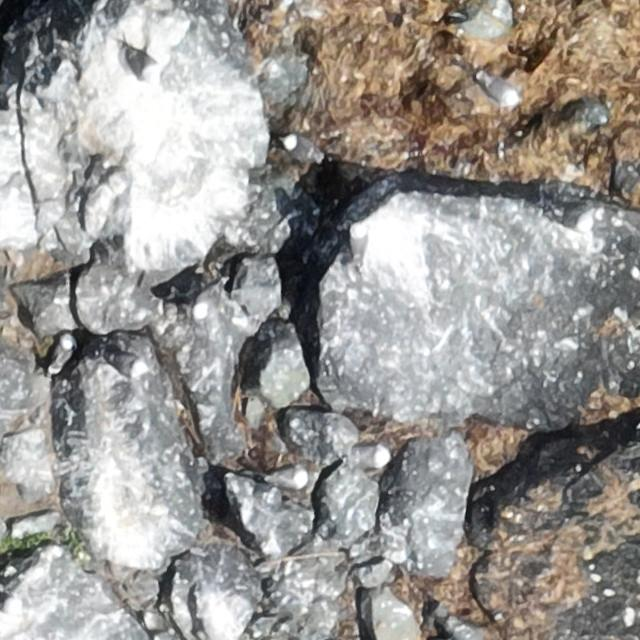umineko: (191, 278, 227, 318), (124, 41, 158, 80), (351, 444, 392, 472), (484, 76, 520, 105), (556, 207, 593, 235), (348, 222, 368, 273), (103, 352, 141, 374), (285, 135, 318, 160), (265, 468, 306, 488), (51, 336, 73, 370)
